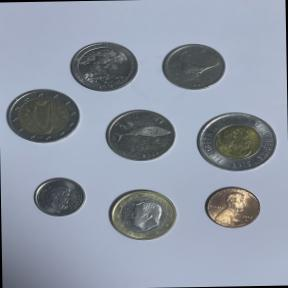coin: (189, 103, 280, 177), (98, 102, 180, 168), (2, 87, 84, 150), (101, 183, 181, 243), (68, 40, 142, 94), (196, 180, 262, 230), (30, 174, 88, 222)
